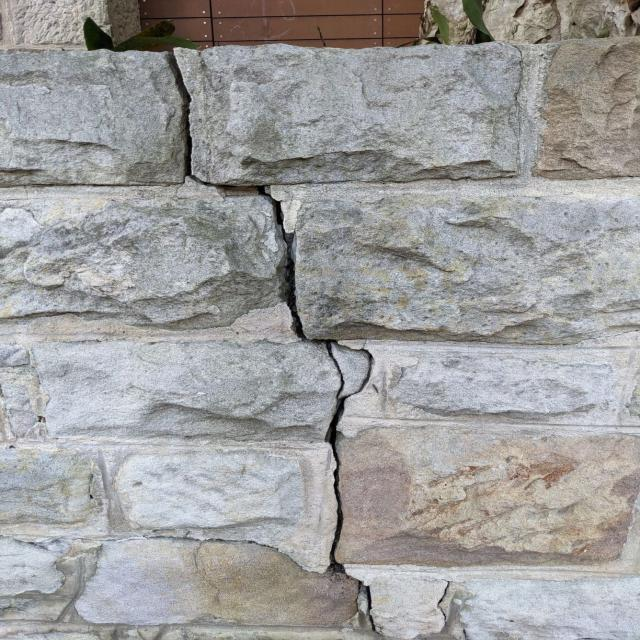crack: (173, 60, 382, 640), (533, 36, 640, 177), (195, 142, 523, 186), (298, 320, 640, 355), (475, 1, 637, 43), (275, 187, 310, 342), (514, 44, 534, 181), (180, 81, 196, 183)
vegetation: (82, 15, 199, 51), (404, 0, 494, 46), (83, 17, 112, 51)
